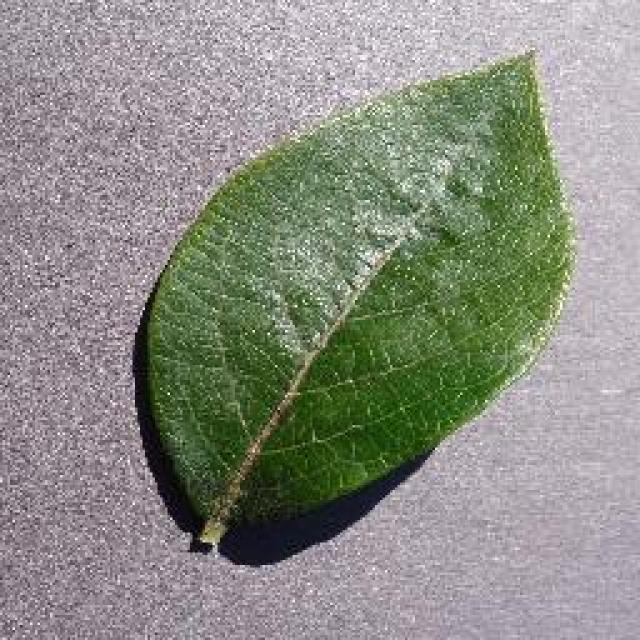Blu_healthy: (168, 114, 542, 471)
